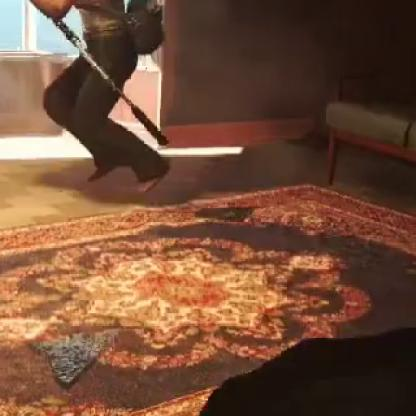enemy: (24, 1, 172, 198)
